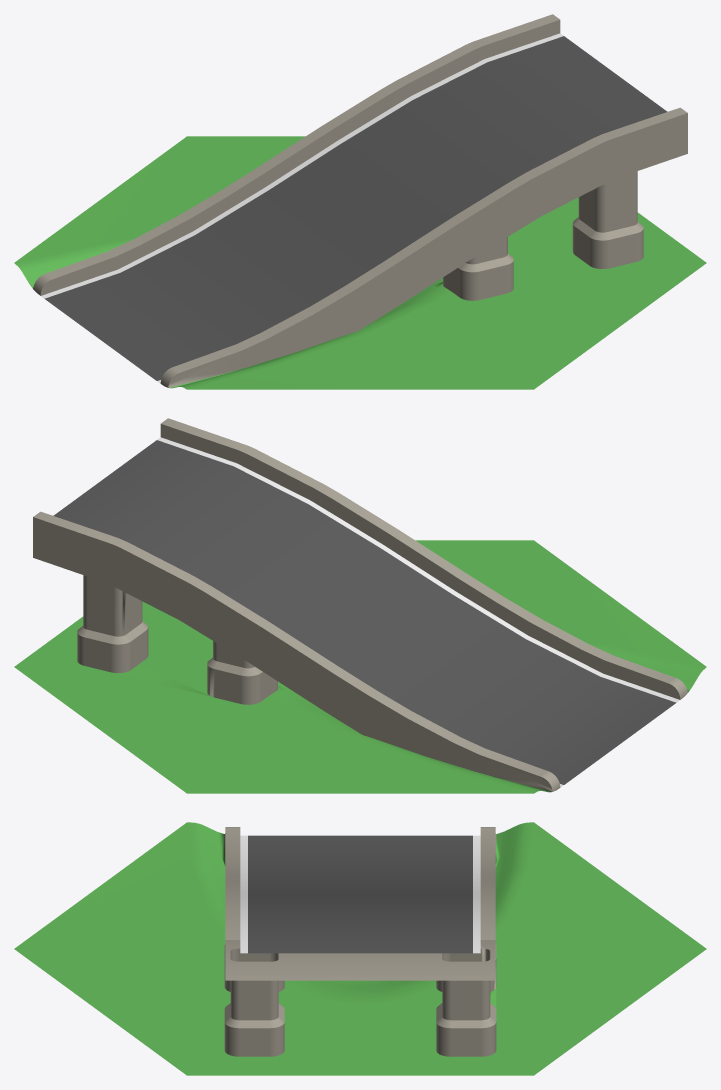
Rendered from Track_Bridge_Ramp.obj.
3 renders of one model, top to bottom at view 1: azimuth 30°, elevation 25°; view 2: azimuth 150°, elevation 25°; view 3: azimuth 270°, elevation 25°, orthographic.
Visible parts, largest first — view 1: object1.018; view 2: object1.018; view 3: object1.018.
Boxes of the visible parts, bbox=[...] form: object1.018: bbox=[14, 14, 706, 389]; object1.018: bbox=[14, 418, 706, 793]; object1.018: bbox=[14, 822, 706, 1075].
Bounding box in the file's own units: 1 × 0.275 × 1.15.
